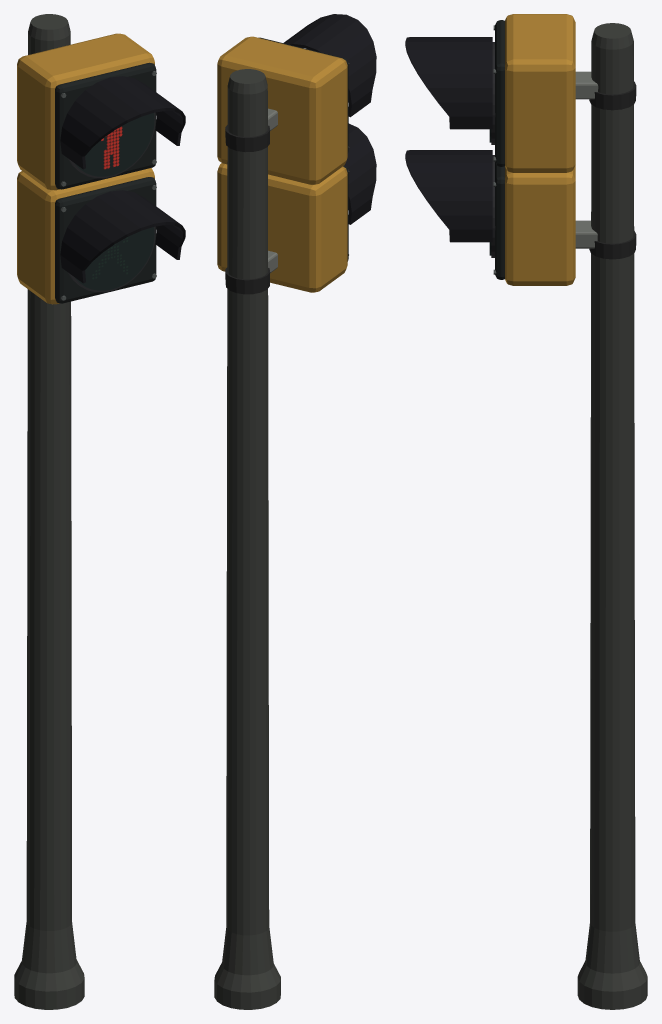
File: signal.glb
The picture shows the model from 3 angles, left to right: view 1: azimuth 30°, elevation 25°; view 2: azimuth 150°, elevation 25°; view 3: azimuth 270°, elevation 25°; orthographic projection. The views are drawn at different scales.
Parts seen in each view (by area): view 1: SinbanpoPedestrianHead; view 2: SinbanpoPedestrianHead; view 3: SinbanpoPedestrianHead.
Boxes of the visible parts, bbox=[...] form: SinbanpoPedestrianHead: bbox=[14, 14, 185, 1009]; SinbanpoPedestrianHead: bbox=[214, 14, 376, 1009]; SinbanpoPedestrianHead: bbox=[405, 14, 647, 1009].
Size of the model in its own units: 0.3421 by 2.91 by 0.6632.
